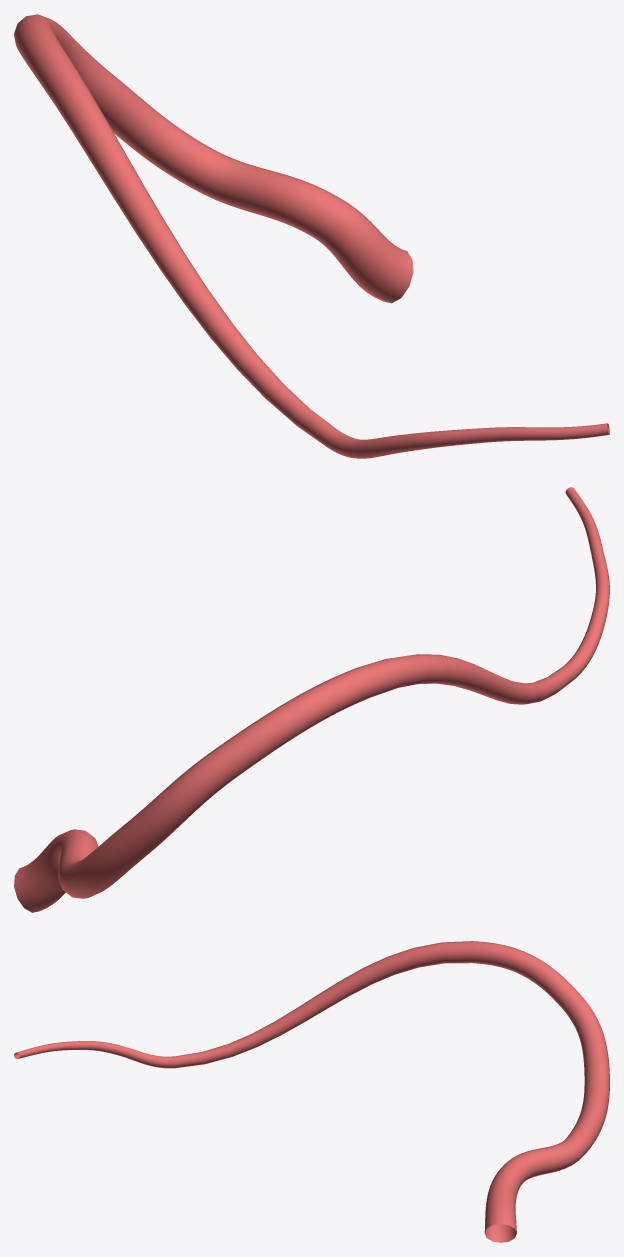
The model's file is Circumflex_fibular_branch_of_posterior_tibial_artery.r_BezierCu.glb.
The picture shows the model from 3 angles, top to bottom: view 1: azimuth 30°, elevation 25°; view 2: azimuth 150°, elevation 25°; view 3: azimuth 270°, elevation 25°; orthographic projection. The views are drawn at different scales.
Visible parts, largest first — view 1: Circumflex_fibular_branch_of_posterior_tibial_artery.r_Bezie; view 2: Circumflex_fibular_branch_of_posterior_tibial_artery.r_Bezie; view 3: Circumflex_fibular_branch_of_posterior_tibial_artery.r_Bezie.
Boxes of the visible parts, bbox=[...] form: Circumflex_fibular_branch_of_posterior_tibial_artery.r_Bezie: bbox=[14, 14, 609, 458]; Circumflex_fibular_branch_of_posterior_tibial_artery.r_Bezie: bbox=[14, 487, 609, 912]; Circumflex_fibular_branch_of_posterior_tibial_artery.r_Bezie: bbox=[14, 941, 609, 1242].
Bounding box in the file's own units: 0.0318 × 0.0263 × 0.0702.
